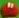red: (0, 0, 19, 18)
